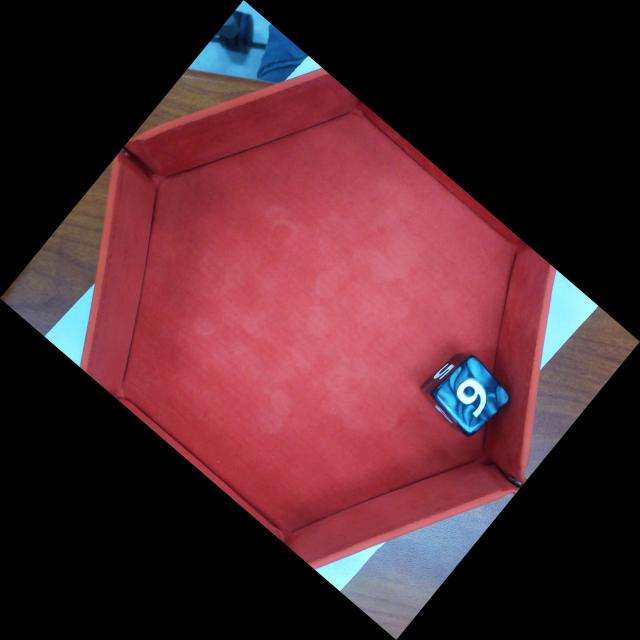dice: (429, 352, 515, 439)
